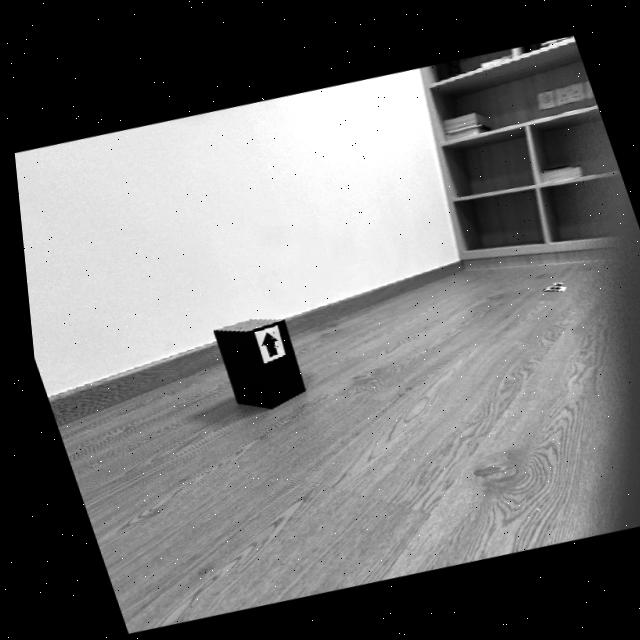UP: (255, 330, 272, 354)
